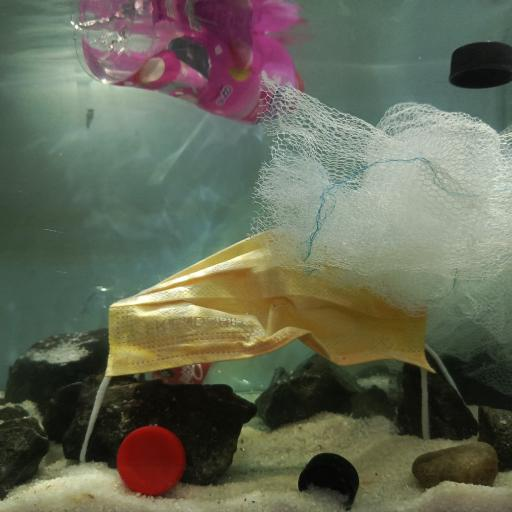bottle_cap: (117, 422, 183, 494), (298, 451, 360, 511), (450, 42, 512, 87)
mask: (108, 224, 436, 374)
net: (249, 74, 512, 344)
plastic_bottle: (69, 13, 304, 127), (73, 284, 288, 392)
